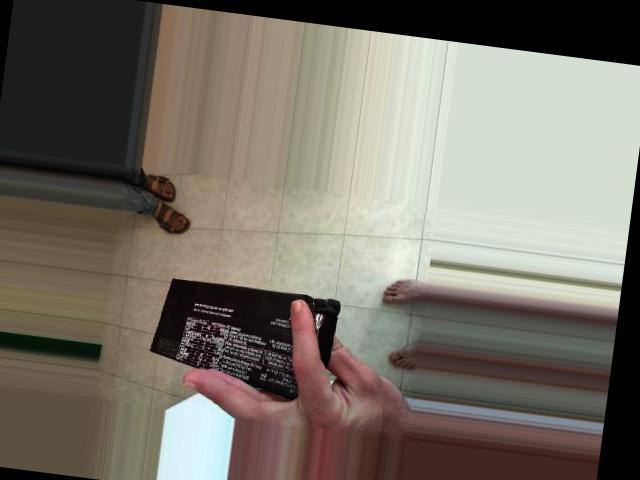chocolate: (199, 178, 326, 381)
